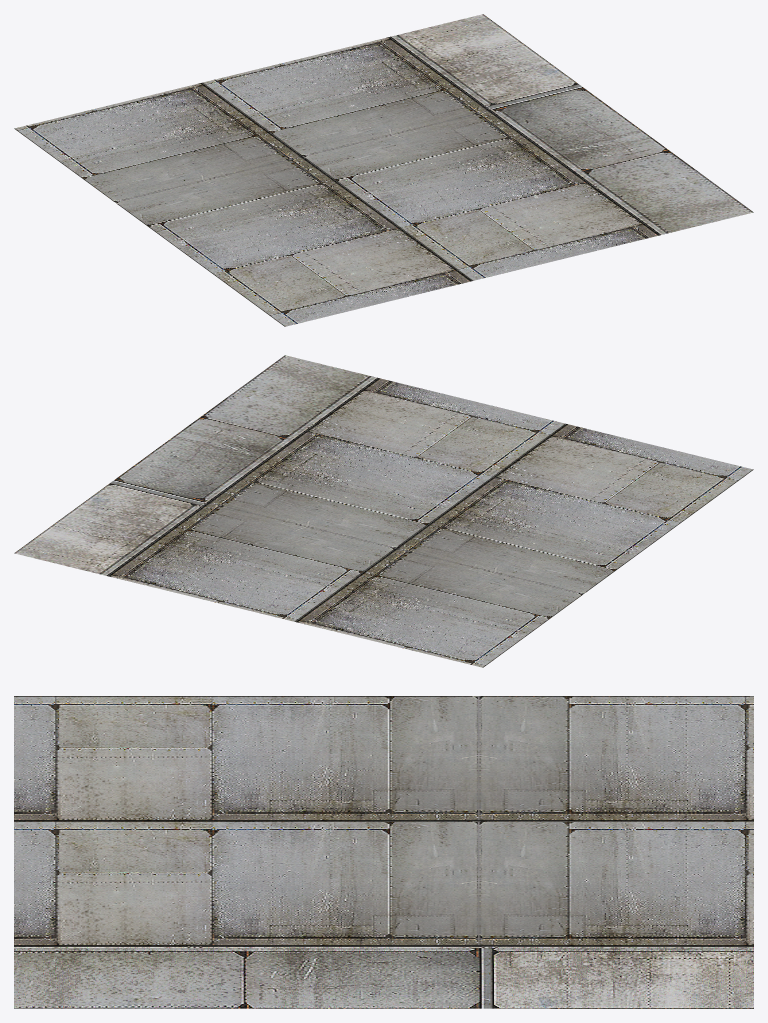
The model's file is Ceiling_C_11.fbx.
3 renders of one model, top to bottom at view 1: azimuth 30°, elevation 25°; view 2: azimuth 150°, elevation 25°; view 3: azimuth 270°, elevation 25°, orthographic. The views are drawn at different scales.
Visible parts, largest first — view 1: Ceiling_C_11; view 2: Ceiling_C_11; view 3: Ceiling_C_11.
Boxes of the visible parts, x1,y1,x2,y2 form: Ceiling_C_11: (14,14,753,326); Ceiling_C_11: (14,355,753,667); Ceiling_C_11: (14,696,753,1008).
Size of the model in its own units: 500 by 0.0081 by 500.
Materials: 1 (1 with a texture image).
